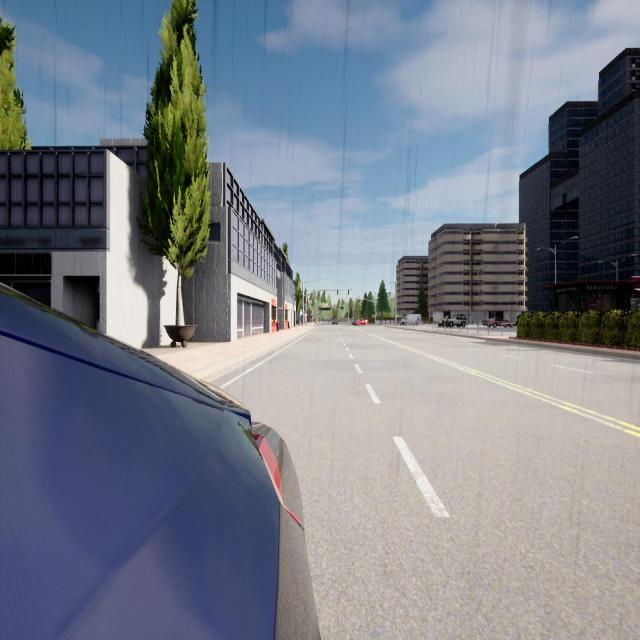Vehicle: (0, 284, 319, 638), (482, 317, 517, 328), (399, 314, 422, 327), (448, 314, 467, 327), (438, 315, 449, 327), (354, 318, 368, 326), (332, 318, 338, 325)
traffic_light: (374, 309, 376, 315), (394, 306, 395, 312), (348, 289, 349, 295), (324, 290, 325, 295), (337, 290, 338, 295), (359, 298, 360, 302), (390, 292, 390, 297), (342, 298, 342, 301), (350, 298, 350, 302)
